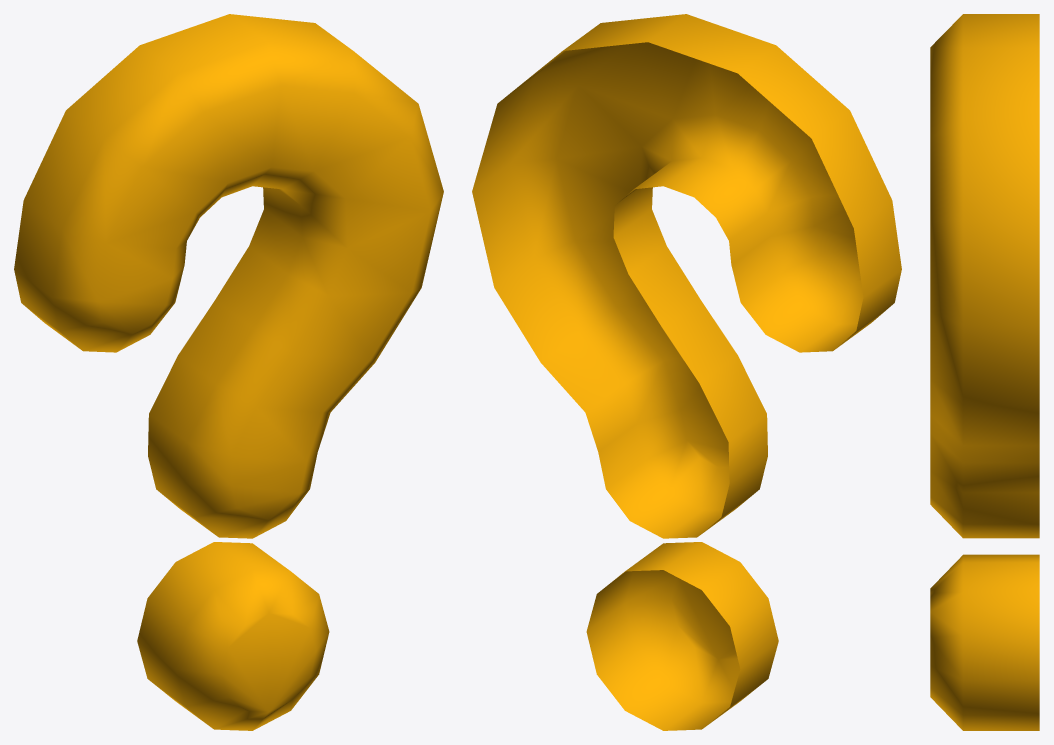
File: Drone_002_Face_Question_001.fbx
The picture shows the model from 3 angles, left to right: view 1: azimuth 30°, elevation 25°; view 2: azimuth 150°, elevation 25°; view 3: azimuth 270°, elevation 25°; orthographic projection.
Visible parts, largest first — view 1: Drone_002_Face_Question_001; view 2: Drone_002_Face_Question_001; view 3: Drone_002_Face_Question_001.
Boxes of the visible parts, x1,y1,x2,y2 form: Drone_002_Face_Question_001: (14, 14, 443, 730); Drone_002_Face_Question_001: (472, 14, 901, 730); Drone_002_Face_Question_001: (930, 14, 1039, 730).
Bounding box in the file's own units: 4.75 × 1.16 × 7.94.
